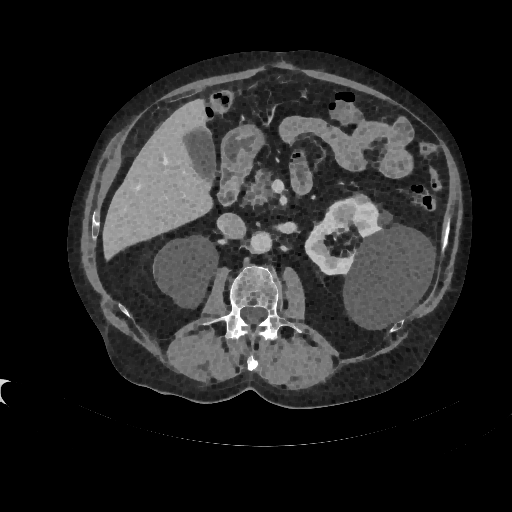Lesion: (351, 191, 371, 207)
